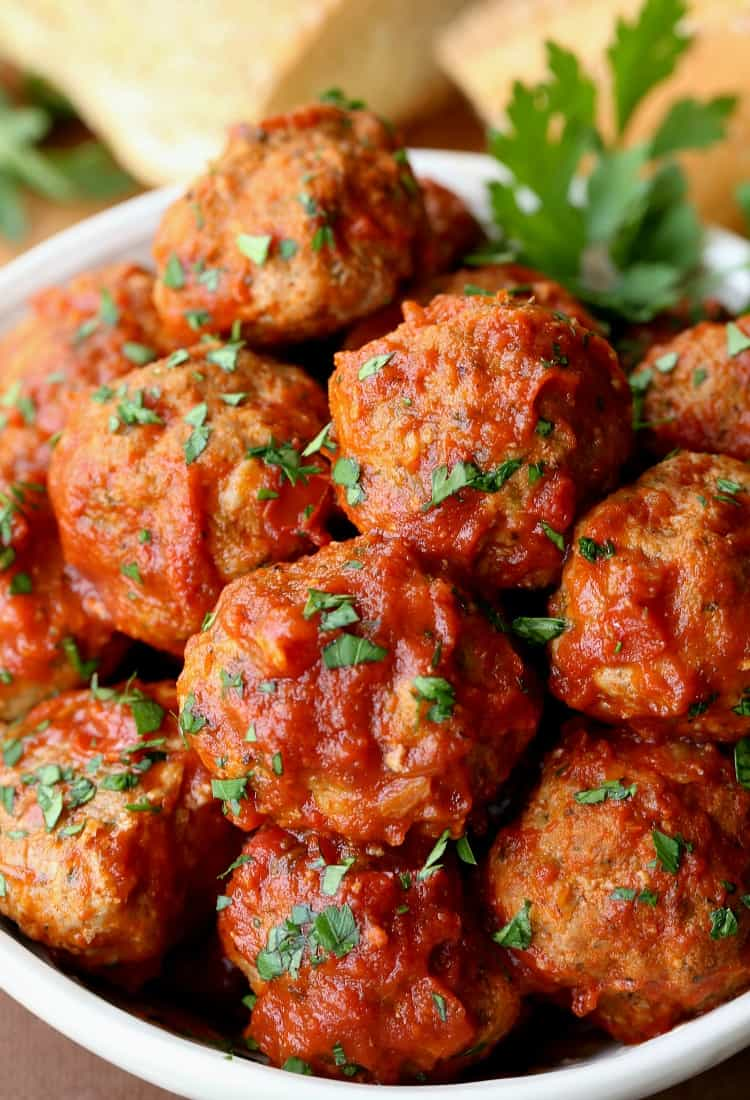meatballs: (70, 242, 718, 997)
